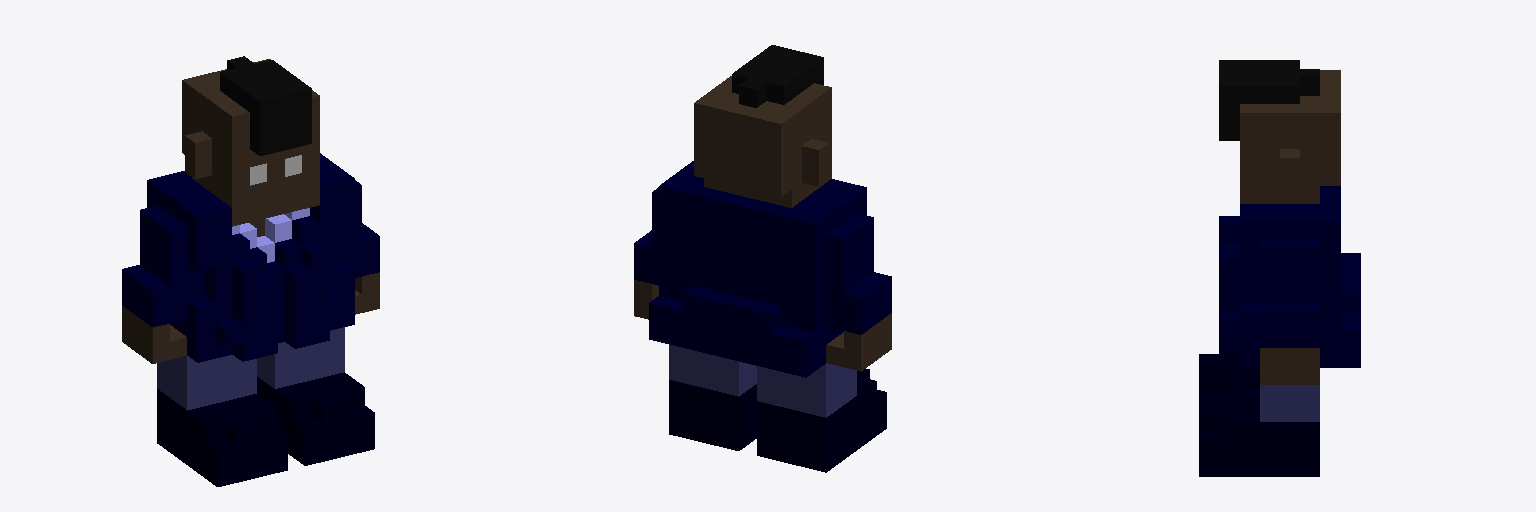
The picture shows the model from 3 angles: view 1: azimuth 30°, elevation 25°; view 2: azimuth 150°, elevation 25°; view 3: azimuth 270°, elevation 25°; orthographic projection.
Parts seen in each view (by area): view 1: Untitled; view 2: Untitled; view 3: Untitled.
Part boxes in pixels (x1,y1,x2,y2): Untitled: (122, 56, 379, 486); Untitled: (634, 45, 891, 472); Untitled: (1199, 60, 1360, 476).
Size of the model in its own units: 1.3 by 2 by 0.8.
1 materials, 1 textured.